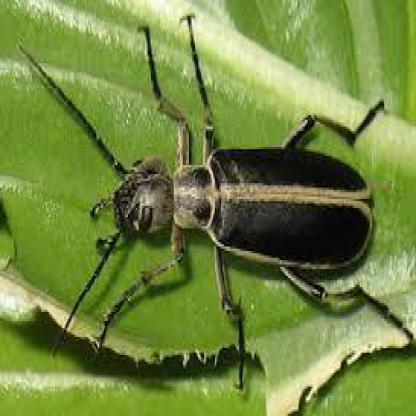blister beetle: (13, 19, 376, 351)
